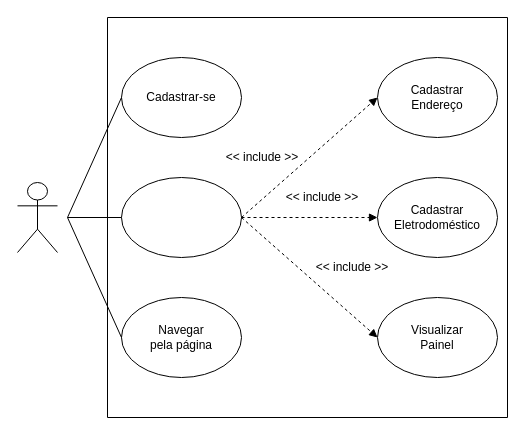
This 526x436 diagram has some shape labels left out. Each missing label, with the centre of its shape:
Autenticar-se: the point at 181,217
Usuário: the point at 37,217
